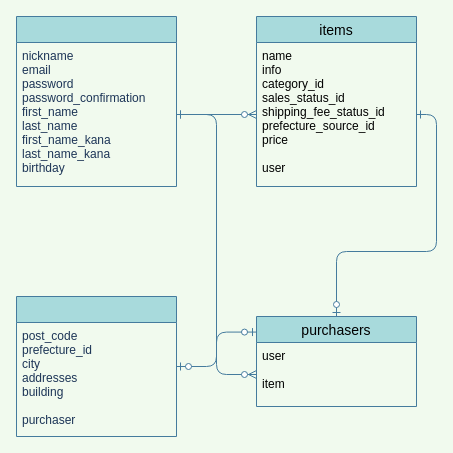
This 453x453 diagram has some shape labels left out. The box of each missing label's shape, as (x1, y1, x2, y2) in pixels:
orders: (16, 296, 176, 436)
users: (16, 16, 176, 186)
